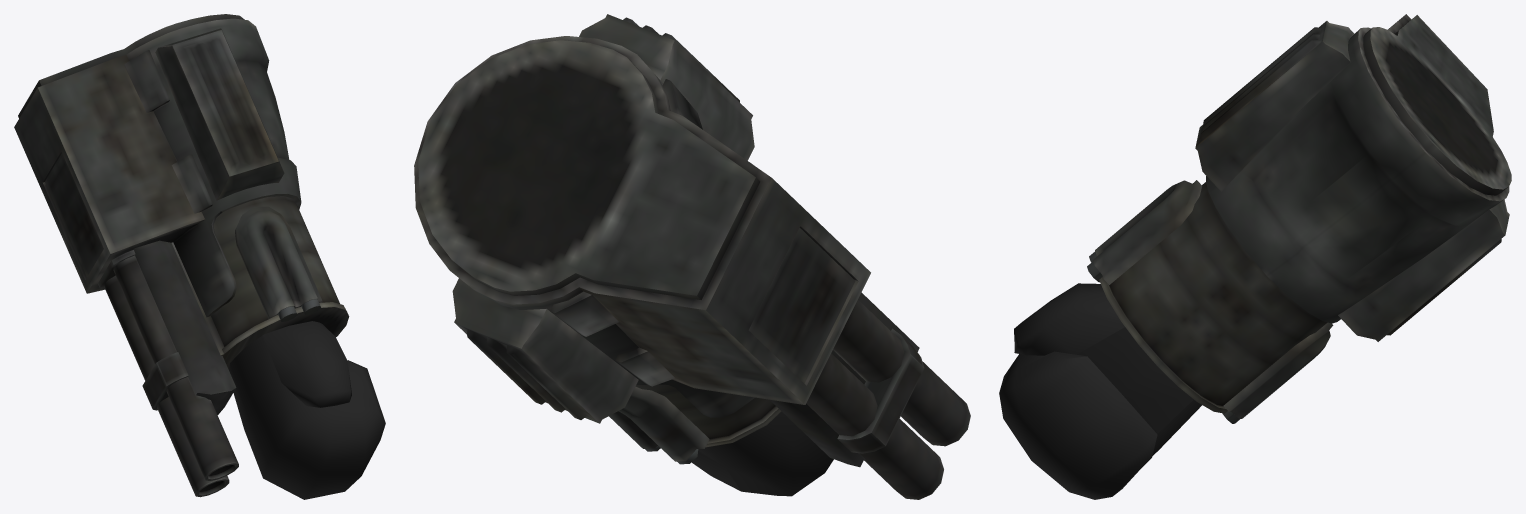
Rendered from ballisticfist2.fbx.
3 renders of one model, left to right at view 1: azimuth 30°, elevation 25°; view 2: azimuth 150°, elevation 25°; view 3: azimuth 270°, elevation 25°, orthographic. The views are drawn at different scales.
Parts seen in each view (by area): view 1: ballisticfist.002; view 2: ballisticfist.002; view 3: ballisticfist.002.
Boxes of the visible parts, x1,y1,x2,y2 form: ballisticfist.002: (14, 14, 385, 499); ballisticfist.002: (414, 14, 970, 499); ballisticfist.002: (999, 14, 1511, 499).
Size of the model in its own units: 0.1637 by 0.2734 by 0.281.
